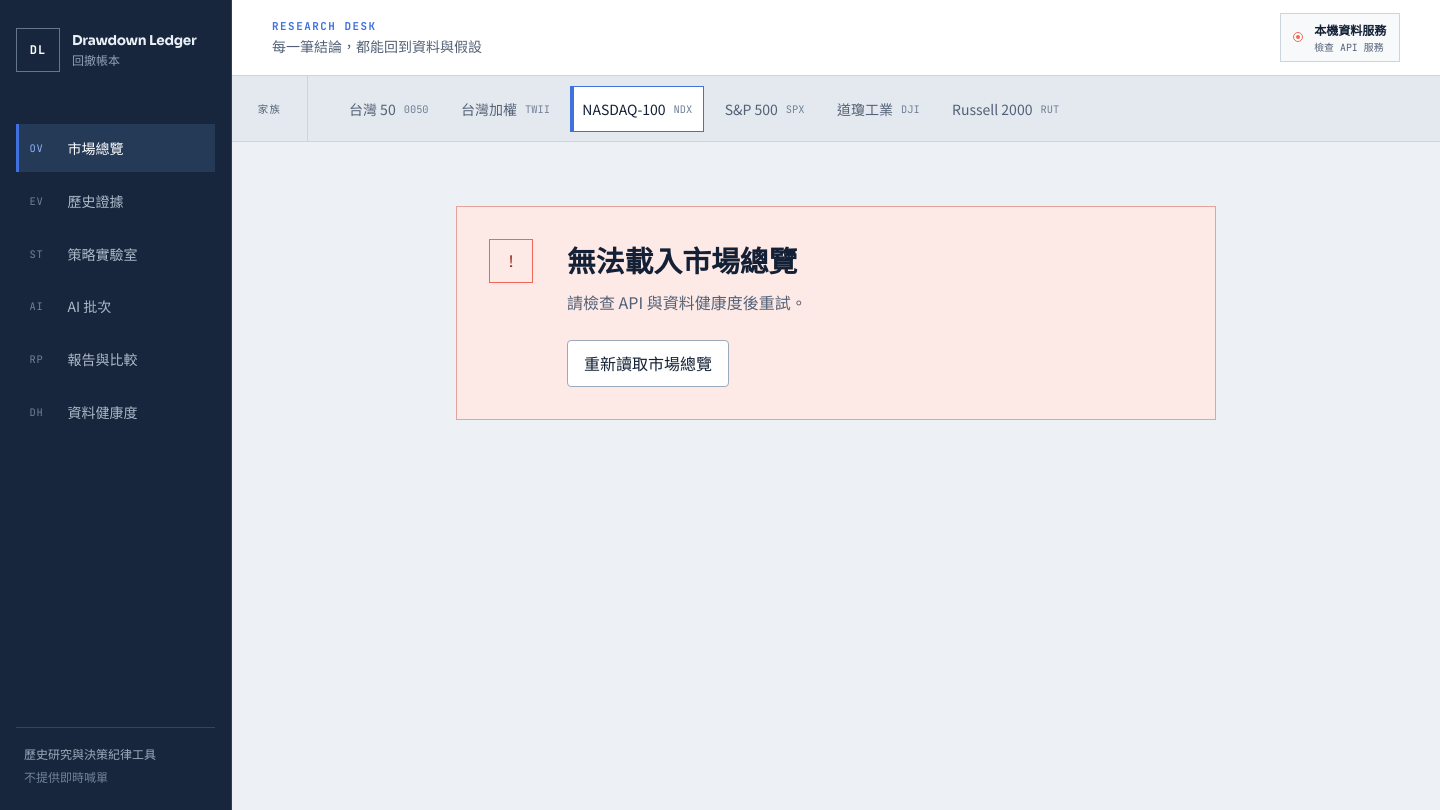
research application shell › navigates between workbench routes without a third-party router
Click the link "EV 歷史證據". click: (76, 201)
box: [29,191,123,211]
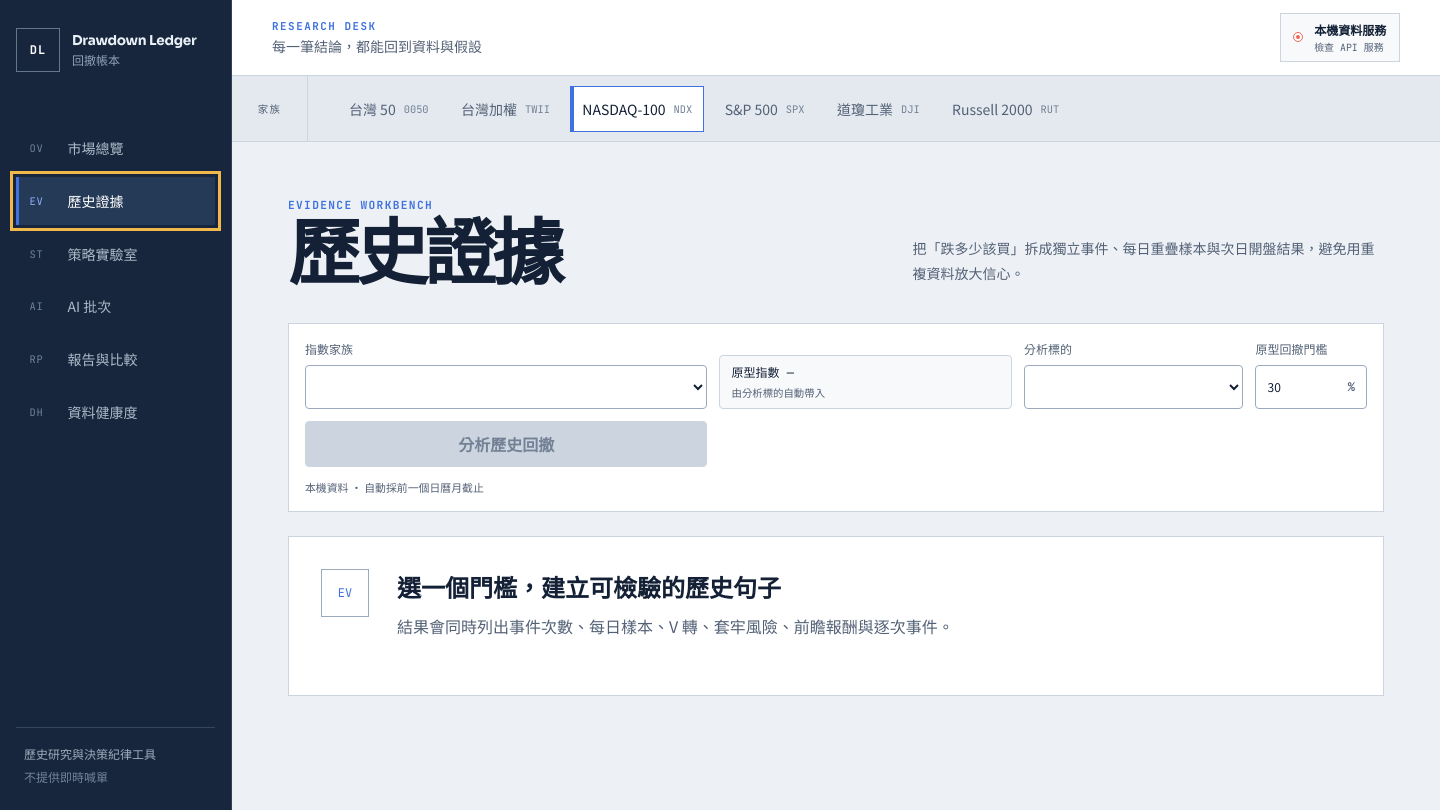
Expected: the heading "歷史證據" is shown, [288,209,560,300]
